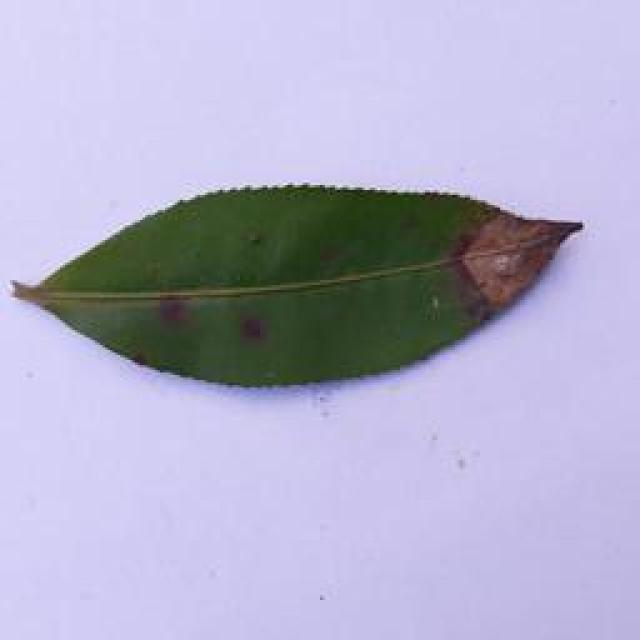Gray Blight: (6, 178, 588, 399)
